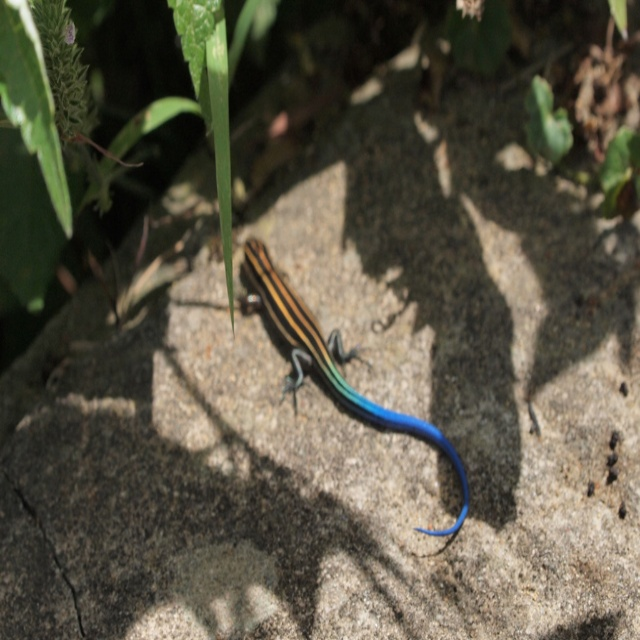Lizard: (237, 245, 477, 554)
